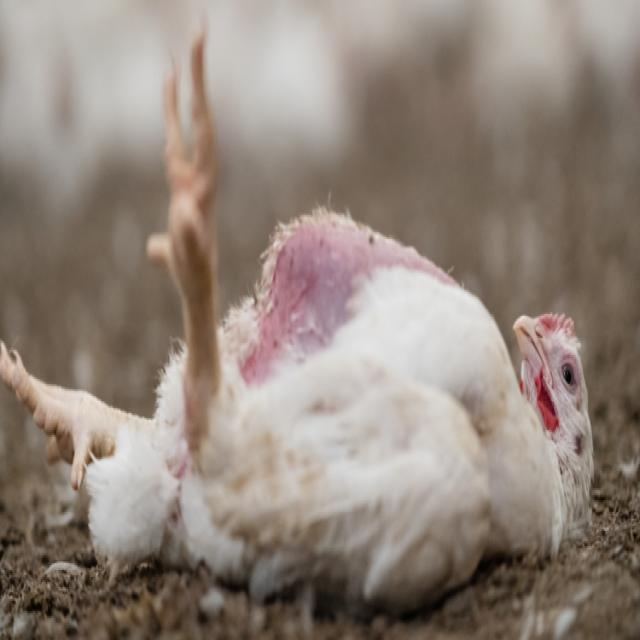AbNormal: (9, 65, 594, 606)
